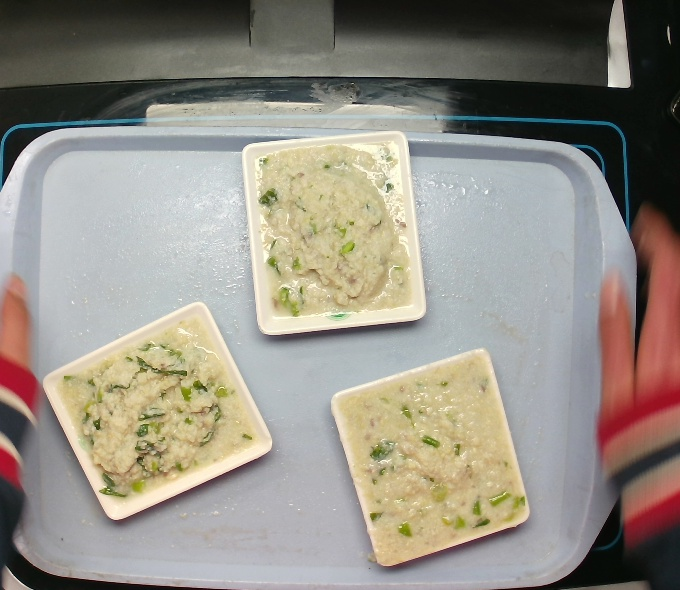wcq-QinCaiDouFuZha: (333, 360, 534, 562), (66, 319, 259, 509), (245, 145, 416, 319)
